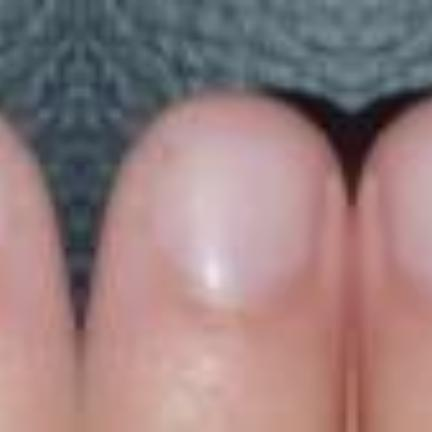Nail: (144, 106, 324, 299), (379, 112, 432, 296), (0, 140, 14, 256)
